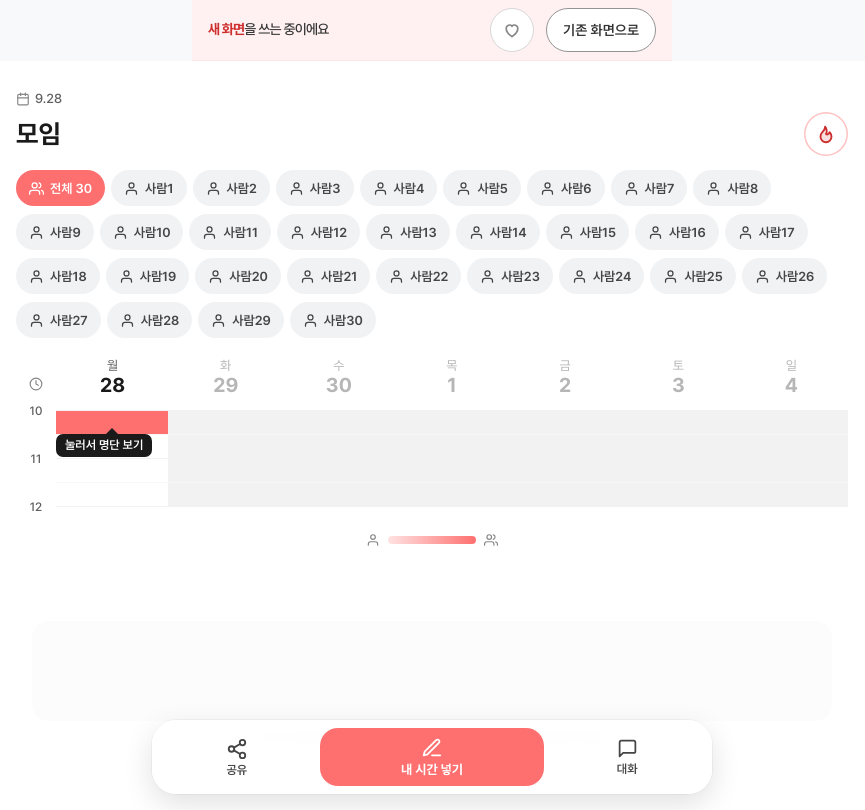
it: 참여자 30명: 칩 31개, 세 명 넘게 고르면 '첫 사람 외 N명 모두'로 줄인다
Check: the heading "모임" is shown, box [16, 118, 61, 150]
Click the button "사람1". click: (149, 188)
box: [111, 170, 186, 206]
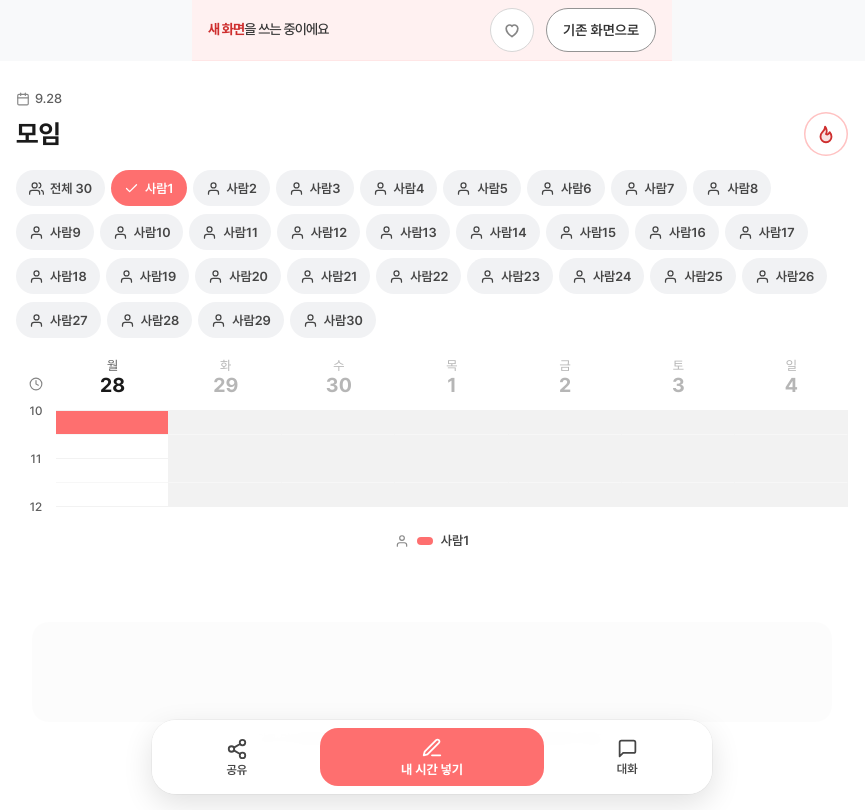
Click the button "사람2". click: (231, 188)
box: [192, 170, 270, 206]
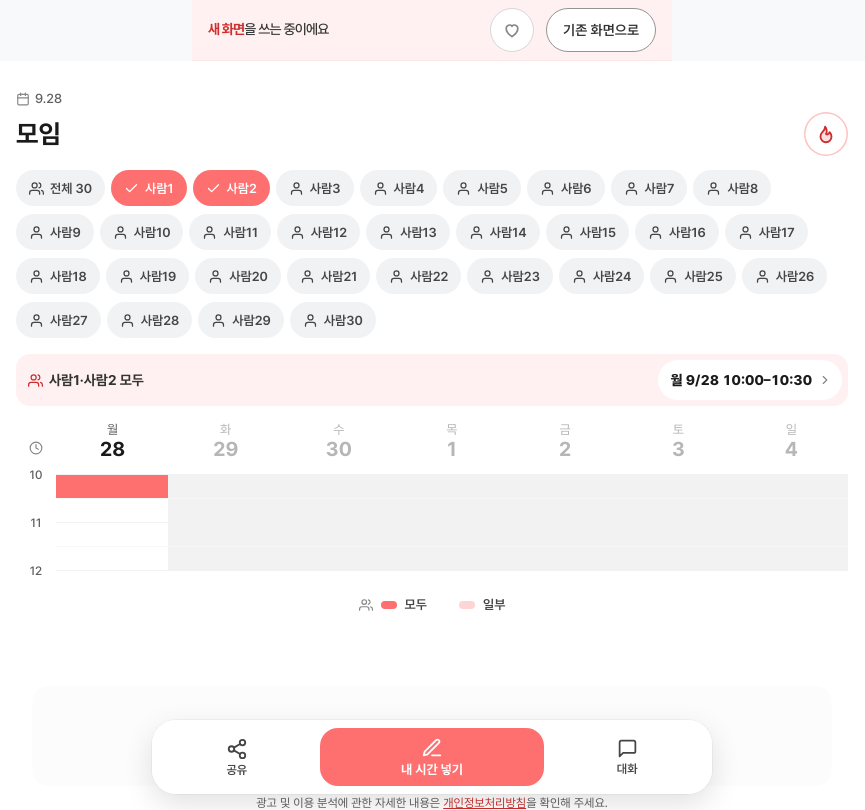
Click the button "사람3". click: (315, 188)
box: [276, 170, 354, 206]
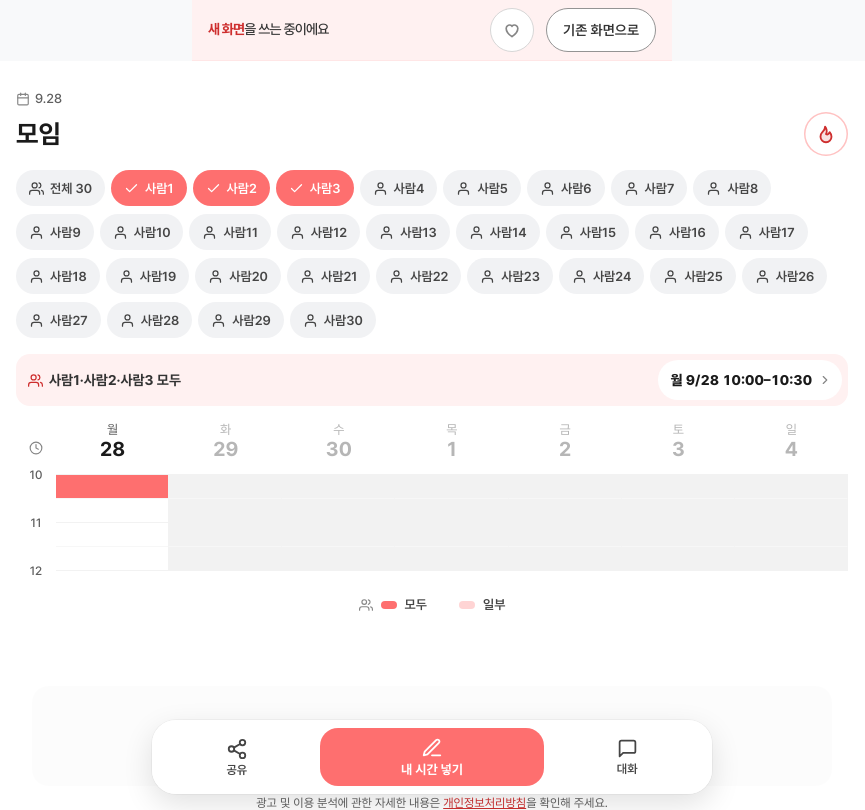
Click the button "사람4". click: (398, 188)
box: [360, 170, 437, 206]
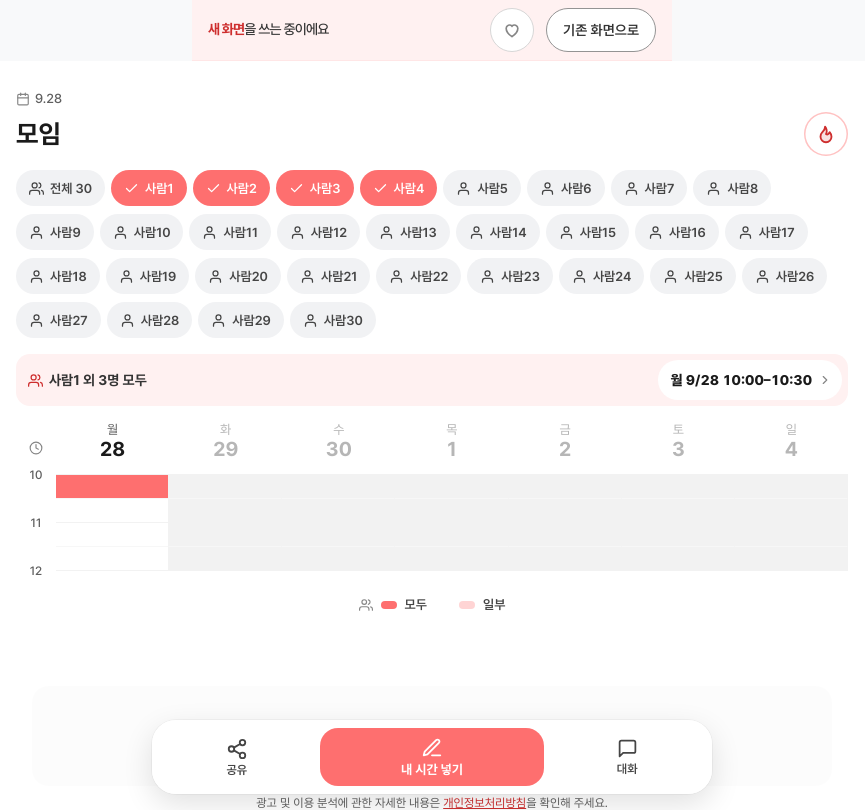
Check: the text "사람1 외 3명 모두" is shown, box [28, 372, 147, 388]
